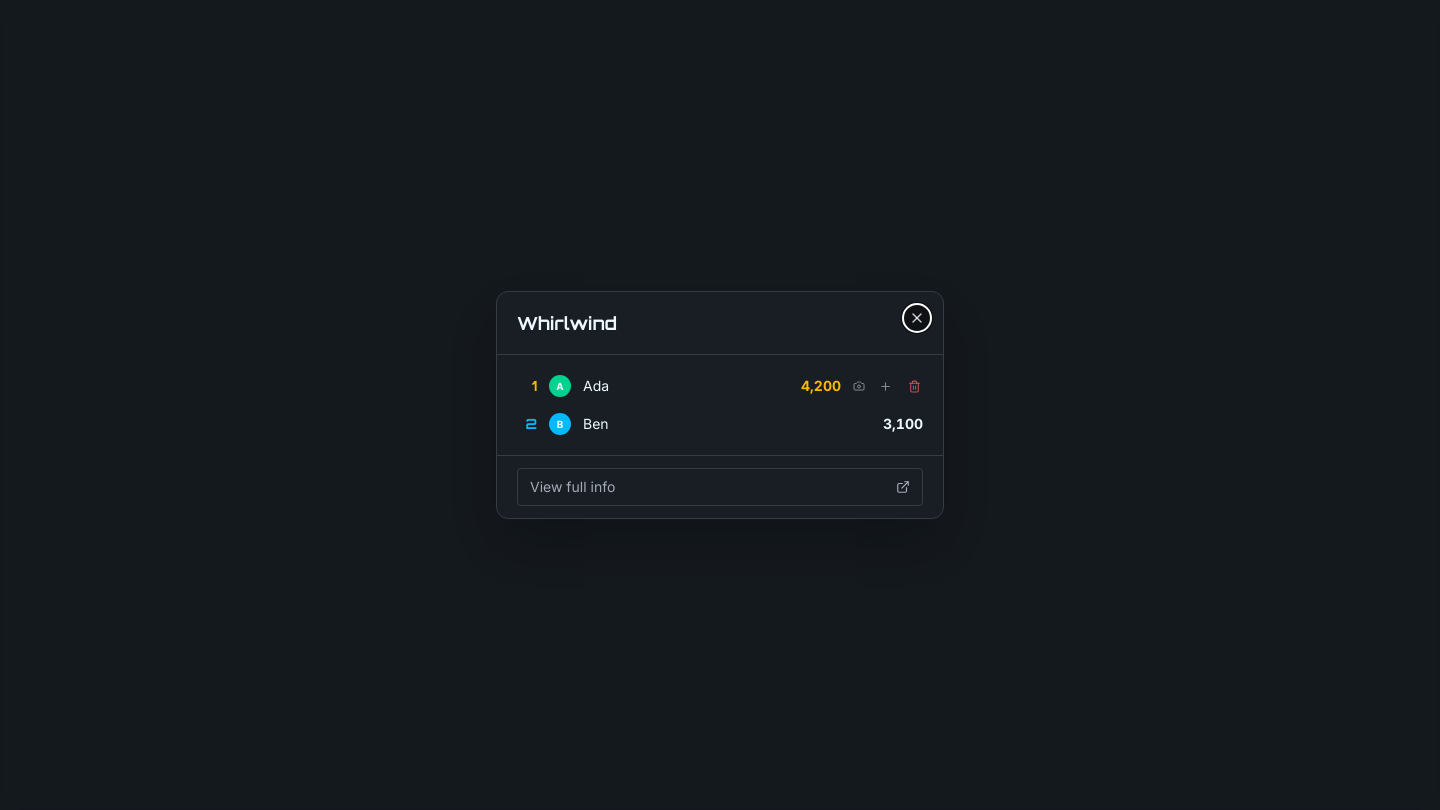
Test: GameQuickView — photo evidence on main ranked rows › clicking the expand or delete control does NOT also open the lightbox
The image size is (1440, 810).
Click the button named "Show score history" at (886, 386), box [875,376,896,397]
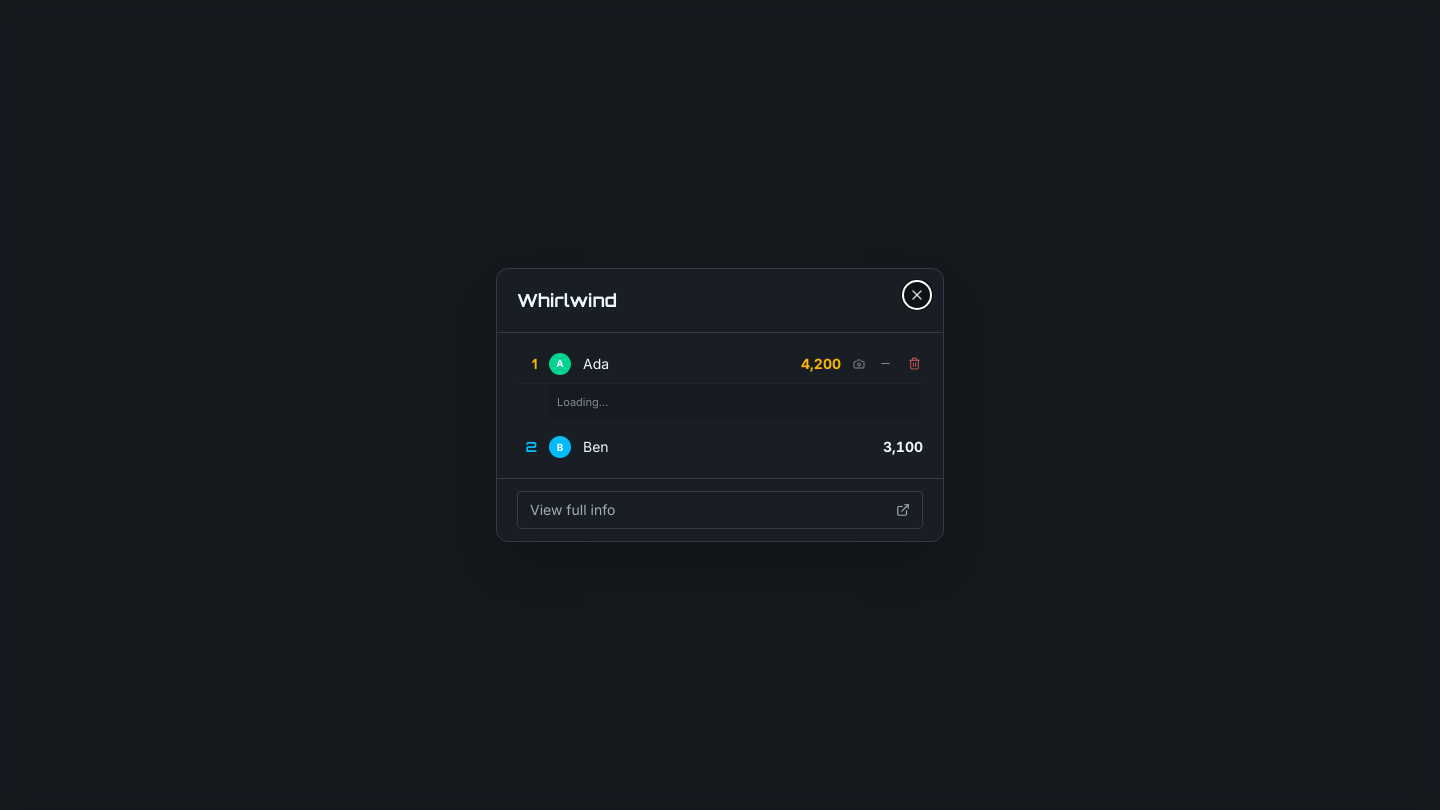
Click the button named "Delete this score (4,200)" at (914, 364), box [904,353,925,374]
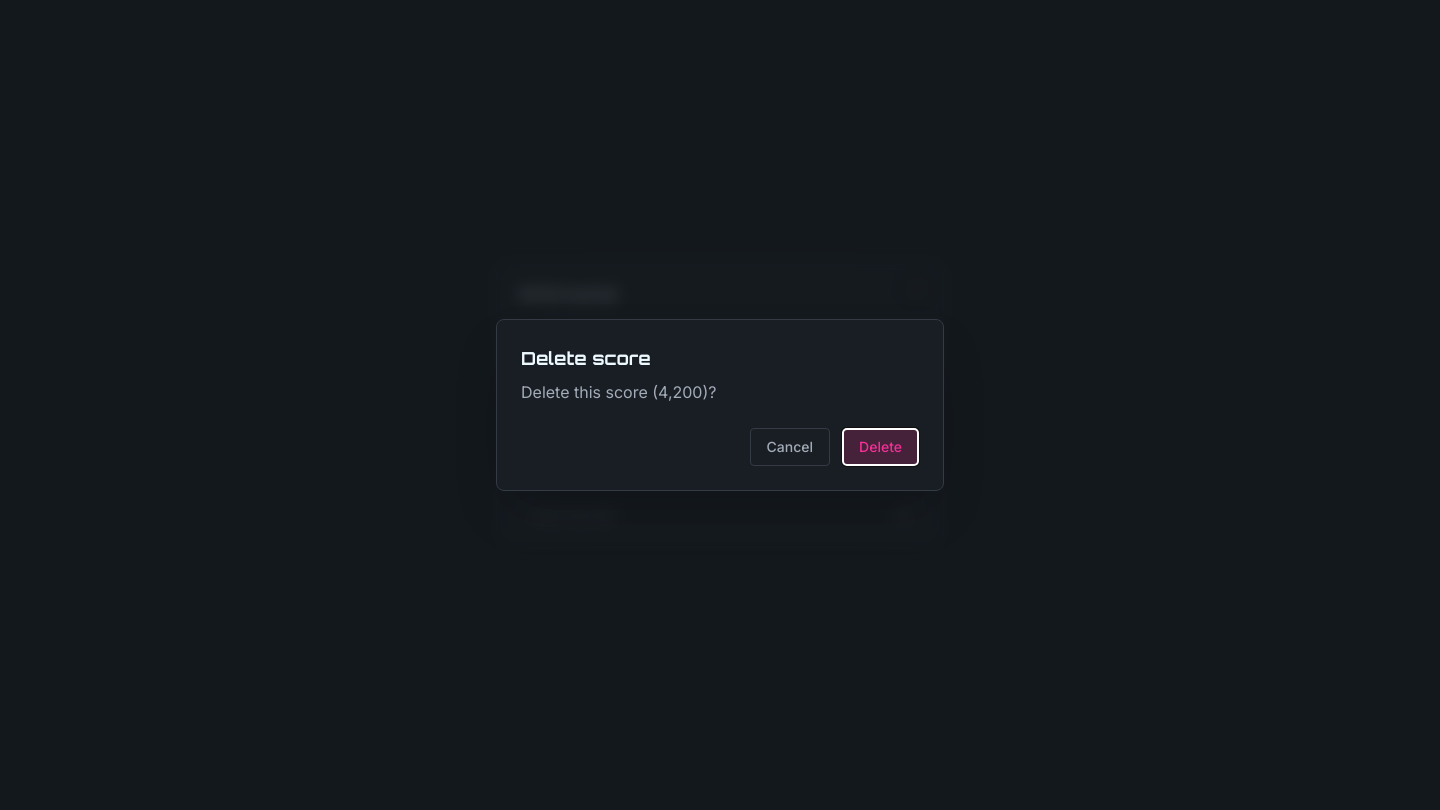
Expected: the button "Delete" is shown, [842,428,919,466]
